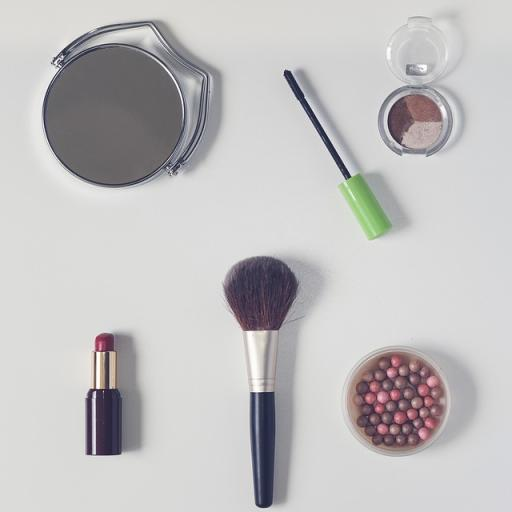lipstick: (86, 333, 121, 455)
